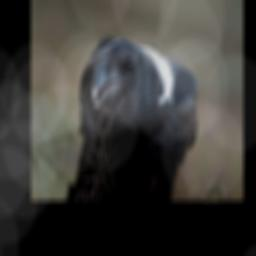Crow: (66, 27, 209, 188)
